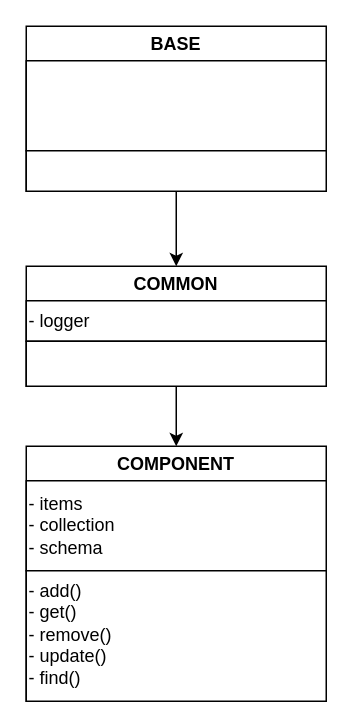
Some shapes in this 353 by 728 pixel diagram are drawn without their labels. Here are the shapes that lost their labels. From the top down, the centre of each, then its label:
At point 175,105: "- ready - events - hooks".
At point 175,170: "- init()".
At point 175,363: "- _defineMethod()".
